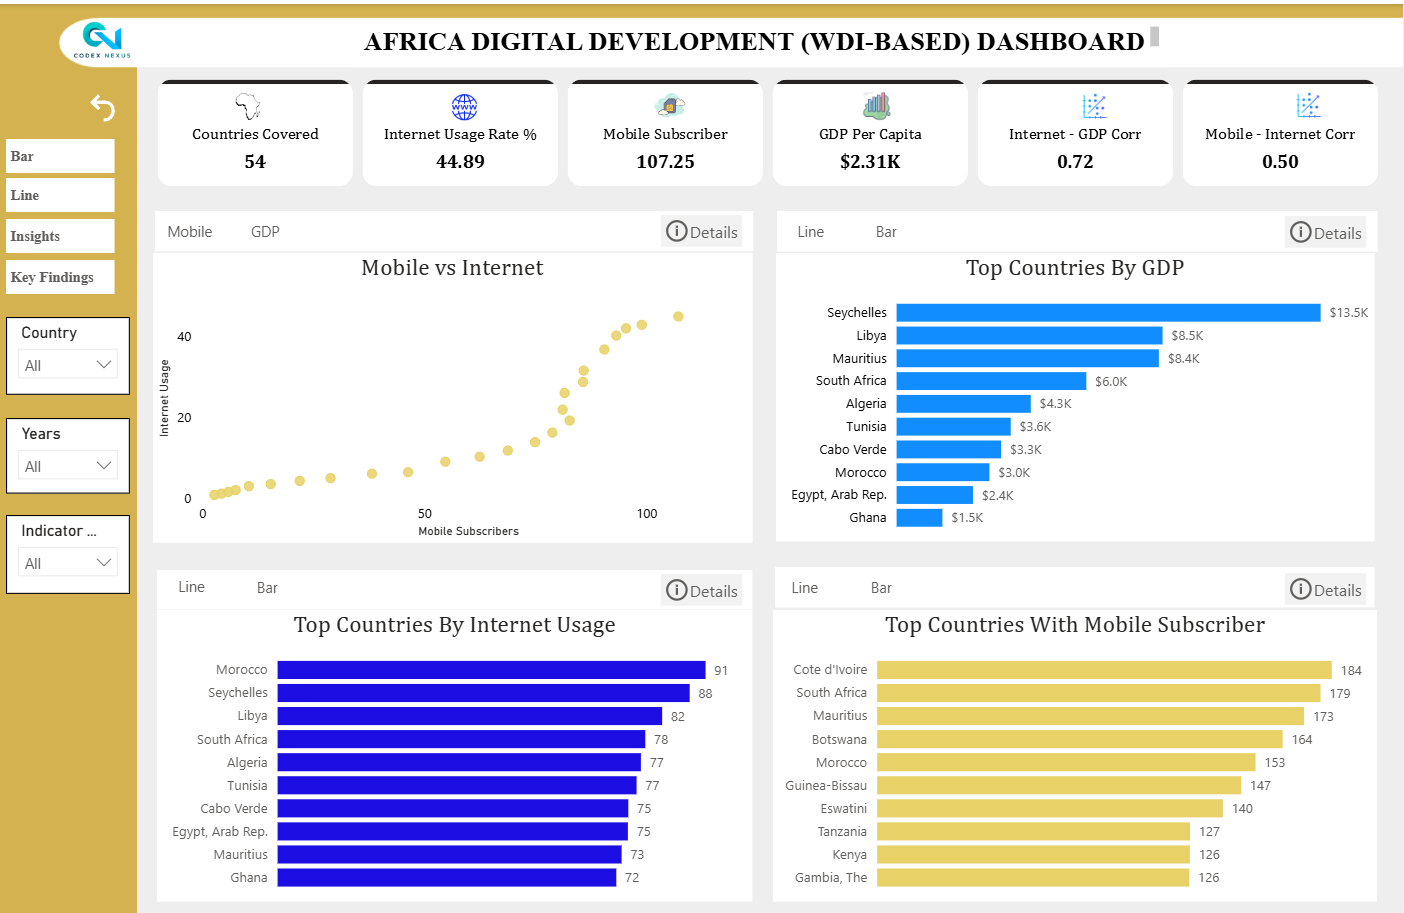

This screenshot's page, from the dashboard's own definition file:
{"tool":"powerbi","page":{"name":"ADDD_00-24","canvas":[1280,830],"ordinal":0},"visuals":[{"type":"image","box":[186,77.5,80.5,32.5],"z":0,"group":"g1"},{"type":"textbox","box":[320,15,743,43],"z":1000},{"type":"image","box":[397.5,81.3,52.6,26.1],"z":1000,"group":"g1"},{"type":"cardVisual","fields":{"Data":["Measure.Countries Covered","Measure.Internet Usage Rate %","Measure.Avg Mobile Usage","Measure.Avg GDP Per Capita","Measure.Internet - GDP Correlation Across Country","Measure.Mobile - Internet Correlation"]},"box":[127,52,1149,131],"z":2000},{"type":"image","box":[576.7,77,66.6,32.5],"z":2000,"group":"g1"},{"type":"image","box":[62,15,60,37],"z":3000},{"type":"image","box":[968.5,80.3,60.1,26.1],"z":3000,"group":"g1"},{"type":"image","box":[769.9,80.3,60.1,26.1],"z":4000,"group":"g1"},{"type":"slicer","fields":{"Values":["Africa_Digital_Development.Years"]},"box":[5.9,377.9,113,69],"z":4000},{"type":"image","box":[1163.9,79.5,60.1,26.1],"z":5000,"group":"g1"},{"type":"slicer","fields":{"Values":["Africa_Digital_Development.Short Name"]},"box":[5.9,285.9,113,71],"z":5000},{"type":"slicer","fields":{"Values":["Africa_Digital_Development.Indicator Name"]},"box":[5.9,465.9,113,72],"z":6000},{"type":"group","id":"g1","title":"Group 1","box":[186,77,1038,33],"z":11000},{"type":"actionButton","box":[5.9,195.9,99,31],"z":27000},{"type":"actionButton","box":[5.9,158.9,99,31],"z":28000},{"type":"actionButton","box":[5.9,122.9,99,31],"z":29000},{"type":"actionButton","box":[5.9,233.9,99,31],"z":38000},{"type":"textbox","box":[140,189,1117,631],"z":39000},{"type":"actionButton","box":[76.2,77.1,44.9,34.2],"z":40000}]}

Visuals, with their boxes on the page's 1280x830 design canvas (x1, y1, x2, y2). These are canvas units, not pixel positions in the 1404x913 screenshot, which may show the page scaled, cropped or inside an application window:
image: 186 78 266 110
textbox: 320 15 1063 58
image: 398 81 450 107
cardVisual - Measure.Countries Covered x Measure.Internet Usage Rate %: 127 52 1276 183
image: 577 77 643 110
image: 62 15 122 52
image: 968 80 1029 106
image: 770 80 830 106
slicer - Africa_Digital_Development.Years: 6 378 119 447
image: 1164 80 1224 106
slicer - Africa_Digital_Development.Short Name: 6 286 119 357
slicer - Africa_Digital_Development.Indicator Name: 6 466 119 538
"Group 1" group: 186 77 1224 110
actionButton: 6 196 105 227
actionButton: 6 159 105 190
actionButton: 6 123 105 154
actionButton: 6 234 105 265
textbox: 140 189 1257 820
actionButton: 76 77 121 111
